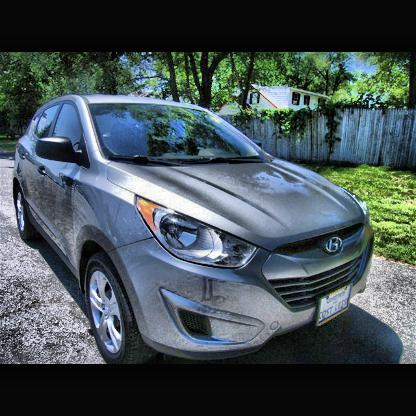Hyundai Tucson SUV 2012: (14, 98, 375, 365)
